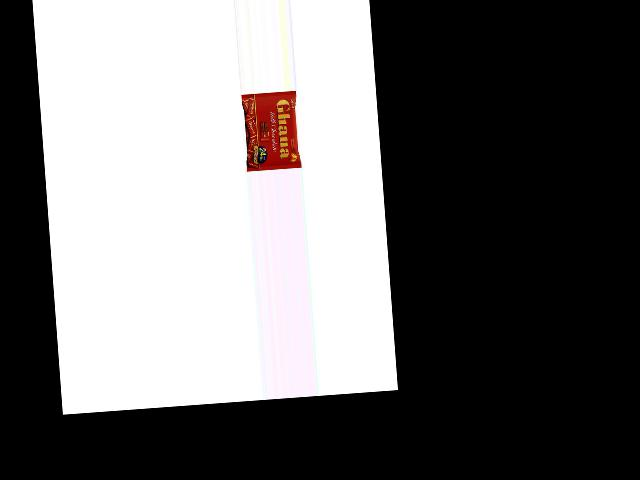chocolate: (239, 92, 300, 172)
